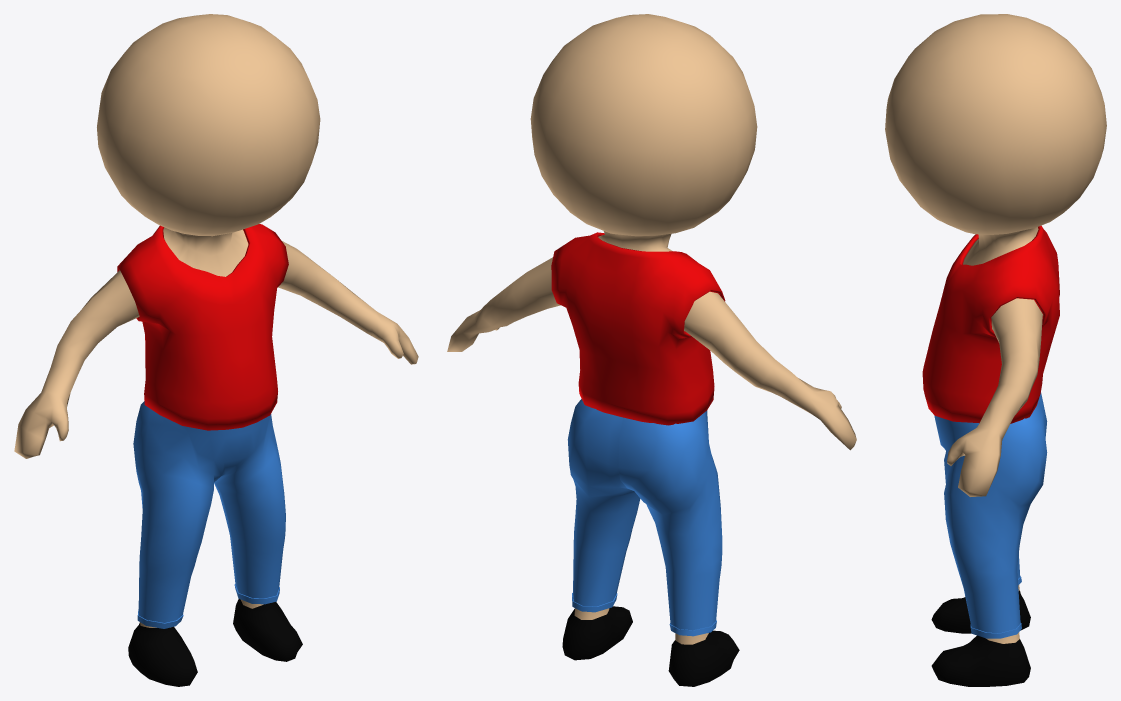
Rendered from adam1.fbx.
3 views of the same model, side by side, from view 1: azimuth 30°, elevation 25°; view 2: azimuth 150°, elevation 25°; view 3: azimuth 270°, elevation 25° (orthographic).
Visible parts, largest first — view 1: Stickman_heads_sphere.015, Stickman_heads_sphere.027, Stickman_heads_sphere.039; view 2: Stickman_heads_sphere.015, Stickman_heads_sphere.039, Stickman_heads_sphere.027; view 3: Stickman_heads_sphere.015, Stickman_heads_sphere.027, Stickman_heads_sphere.039.
Part boxes in pixels (x1=…): Stickman_heads_sphere.015: x1=14, y1=14, x2=418, y2=686; Stickman_heads_sphere.027: x1=117, y1=224, x2=288, y2=430; Stickman_heads_sphere.039: x1=133, y1=401, x2=285, y2=628; Stickman_heads_sphere.015: x1=447, y1=14, x2=856, y2=686; Stickman_heads_sphere.039: x1=567, y1=399, x2=722, y2=636; Stickman_heads_sphere.027: x1=551, y1=232, x2=725, y2=425; Stickman_heads_sphere.015: x1=885, y1=14, x2=1106, y2=686; Stickman_heads_sphere.027: x1=922, y1=225, x2=1059, y2=423; Stickman_heads_sphere.039: x1=934, y1=392, x2=1047, y2=638.
Bounding box in the file's own units: 123 × 185 × 59.32.
